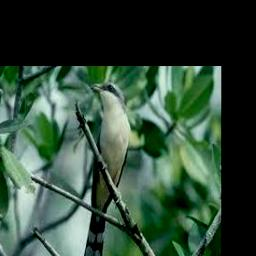Cuckoo: (80, 82, 130, 256)
